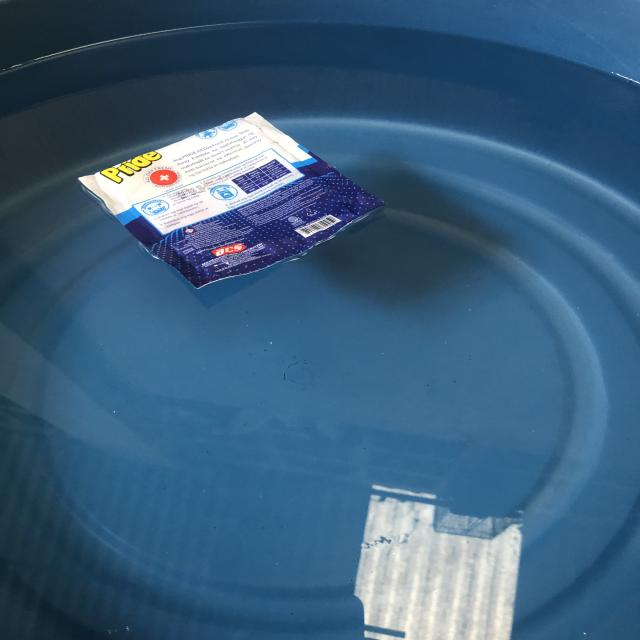Plastic Wrapper: (79, 113, 383, 288)
